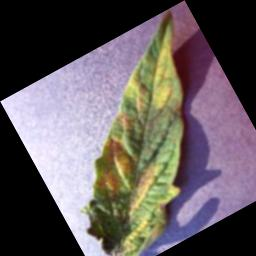Leaf_Mold: (106, 29, 207, 133), (113, 165, 168, 217), (95, 128, 143, 181), (112, 213, 160, 255), (87, 164, 126, 204), (153, 181, 183, 207), (112, 107, 137, 135)
